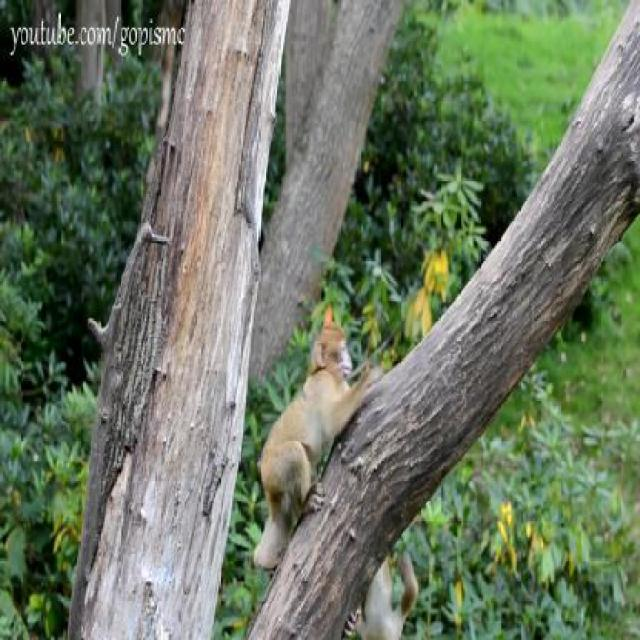Monkey: (255, 318, 379, 596)
